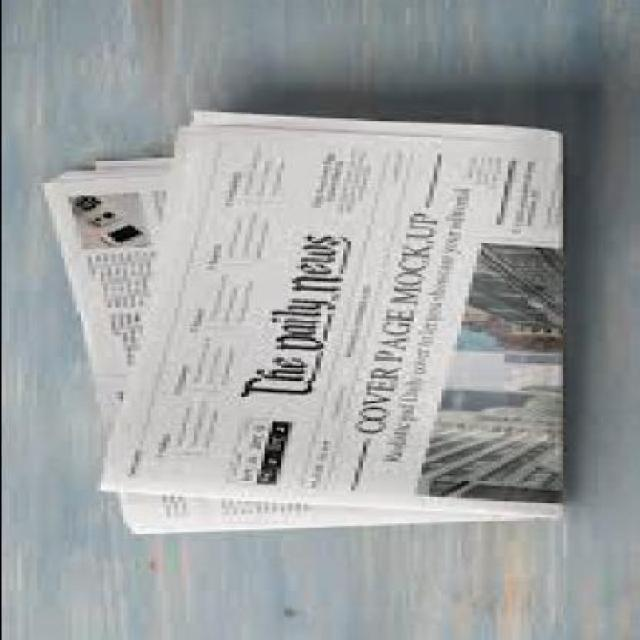PAPER: (35, 110, 558, 538)
